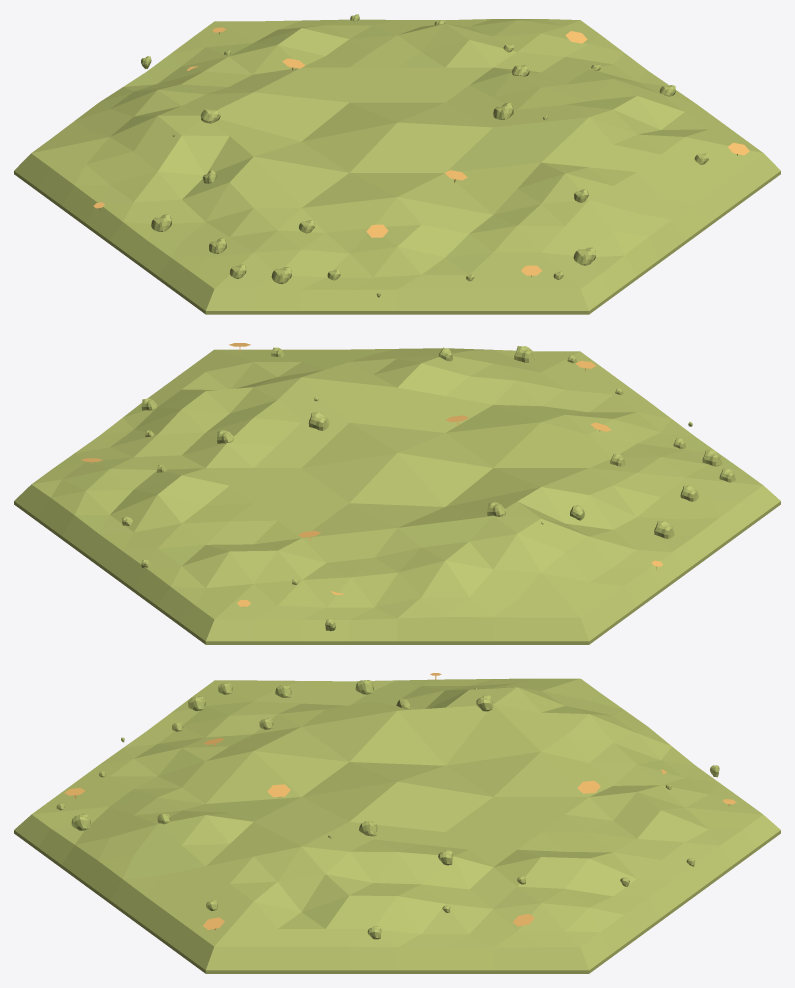
Rendered from grassland.glb.
The picture shows the model from 3 angles, top to bottom: view 1: azimuth 30°, elevation 25°; view 2: azimuth 150°, elevation 25°; view 3: azimuth 270°, elevation 25°; orthographic projection.
Visible parts, largest first — view 1: land, small_details; view 2: land, small_details; view 3: land, small_details.
Part boxes in pixels (x1=…): land: x1=14, y1=19, x2=780, y2=314; small_details: x1=93, y1=14, x2=749, y2=297; land: x1=14, y1=348, x2=780, y2=644; small_details: x1=81, y1=343, x2=735, y2=631; land: x1=14, y1=678, x2=780, y2=973; small_details: x1=56, y1=673, x2=736, y2=939.
Size of the model in its own units: 1.73 by 0.193 by 2.
